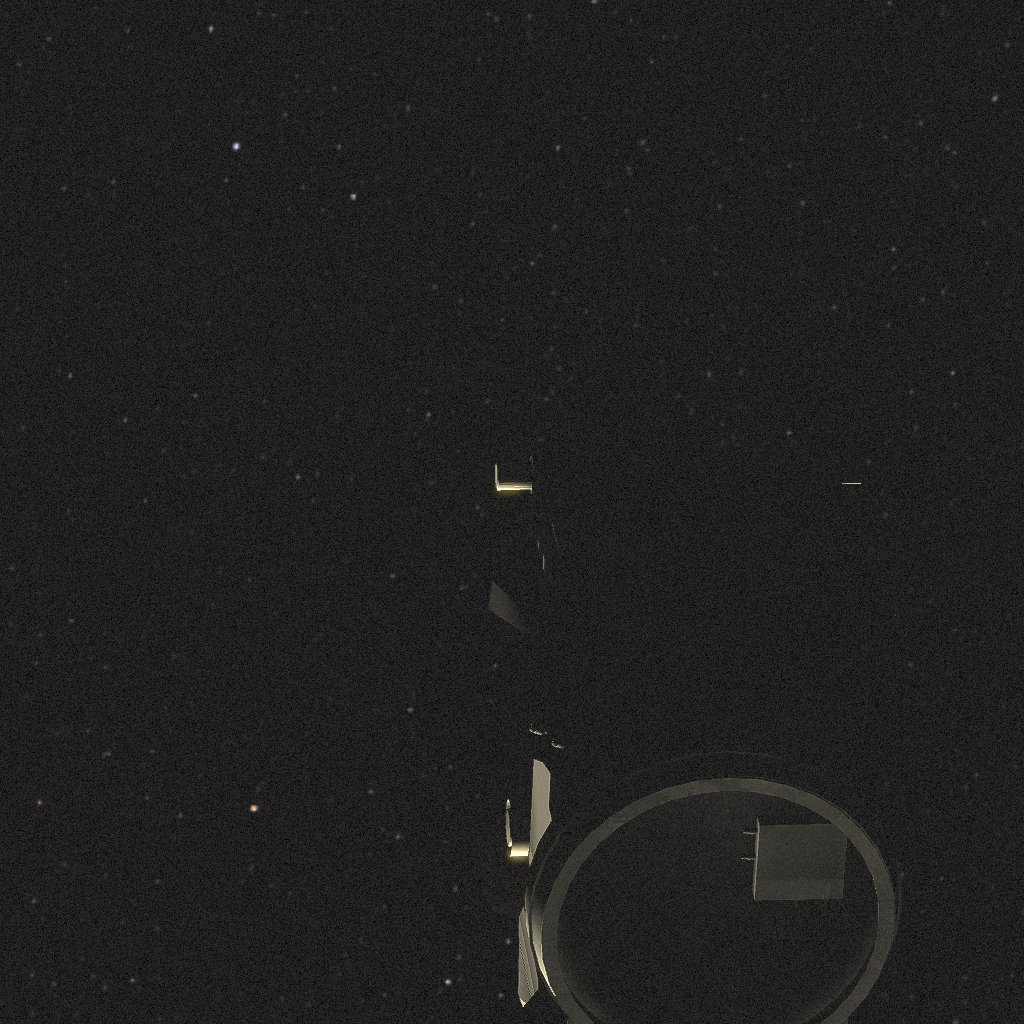proba_3_csc: (480, 440, 911, 1024)
